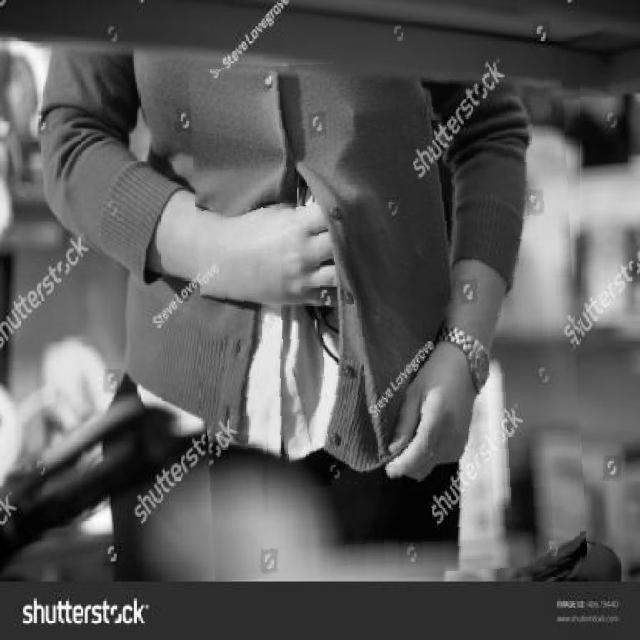Shoplifting: (195, 55, 580, 577)
